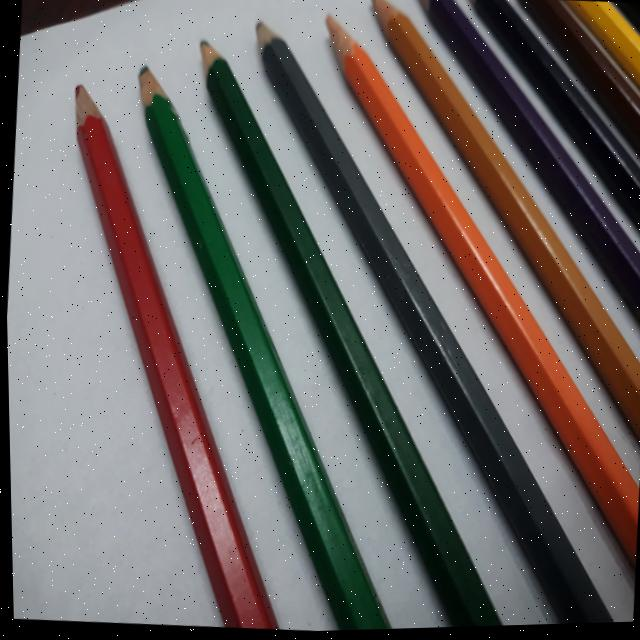pencil: (235, 0, 623, 627), (177, 20, 517, 630), (304, 0, 637, 583), (122, 46, 408, 632), (52, 65, 298, 632), (356, 0, 640, 455), (409, 0, 640, 337), (459, 0, 640, 246)
